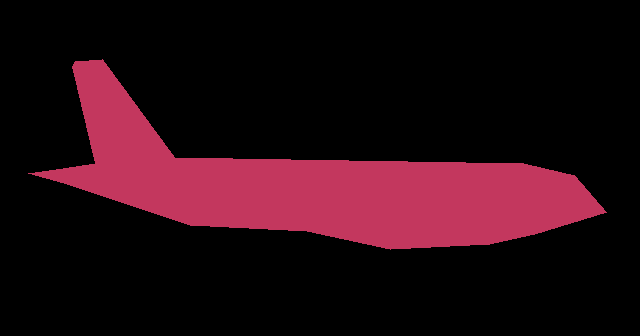Airplane: (28, 59, 607, 249)
